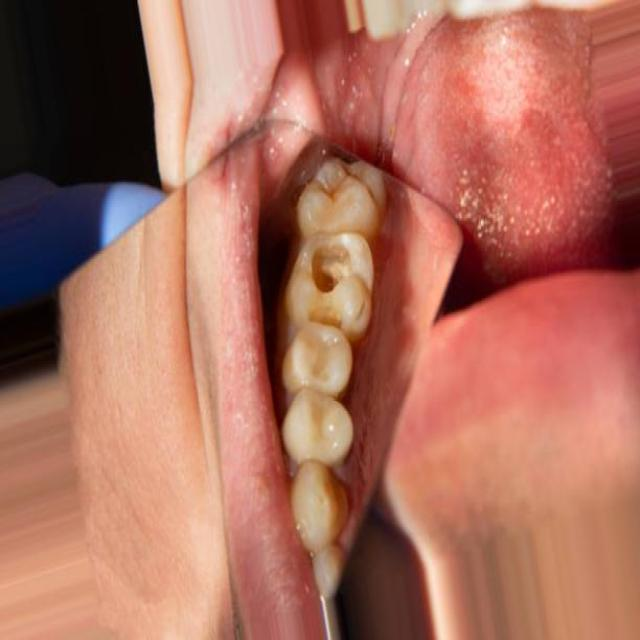caries: (297, 229, 362, 301), (306, 300, 354, 350)
